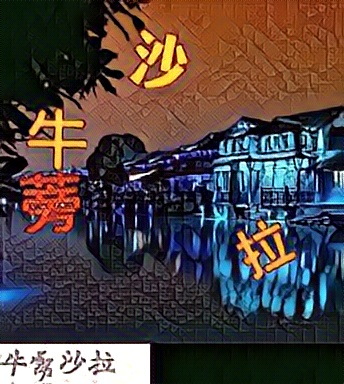C0AD: (234, 213, 297, 280)
C5A3: (28, 102, 91, 169)
C9B3: (129, 25, 192, 92)
DDF2: (20, 169, 83, 236)
